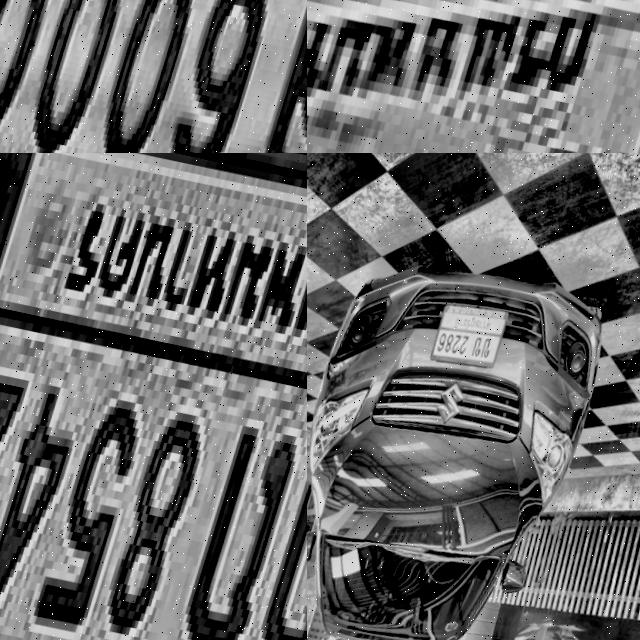license-plate: (0, 153, 307, 640), (307, 0, 640, 153), (0, 0, 307, 153), (432, 298, 516, 372)
